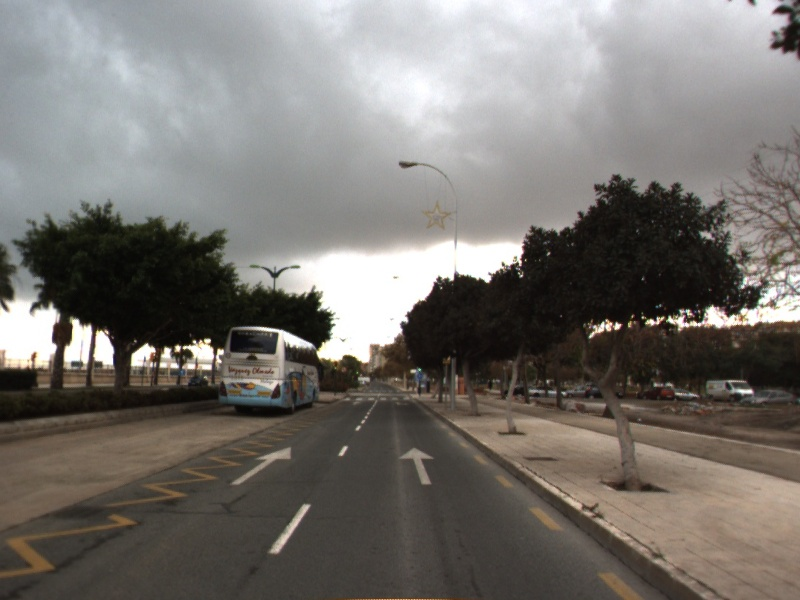STRAIGHT: (227, 444, 293, 487), (397, 445, 437, 487)
